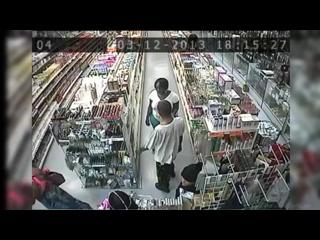Normal: (143, 100, 184, 193), (145, 78, 179, 129)
